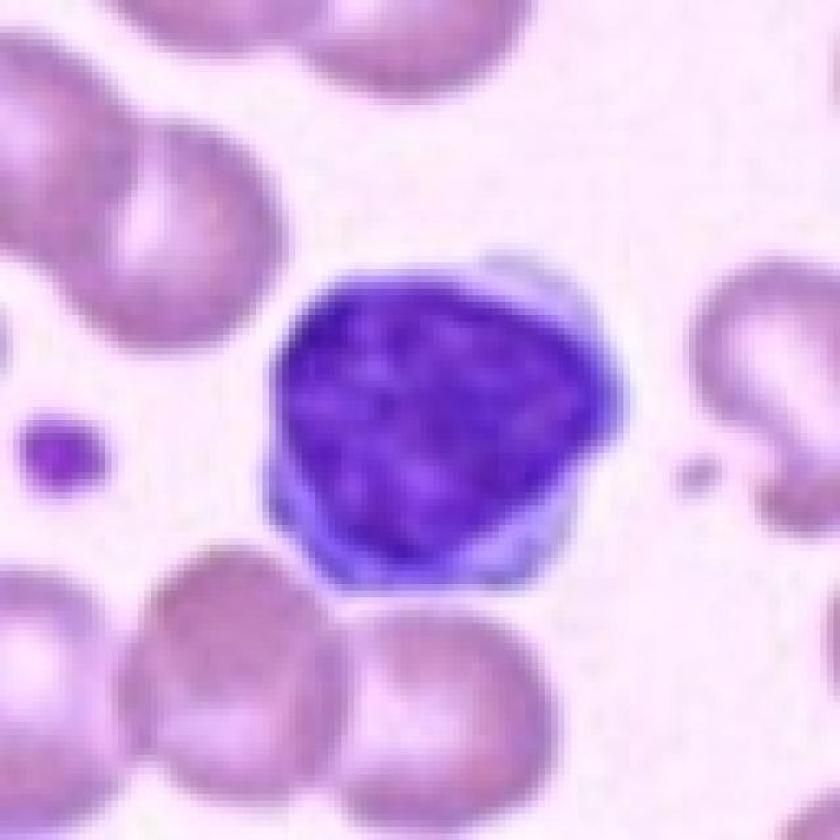lymphocyte: (254, 239, 631, 612)
